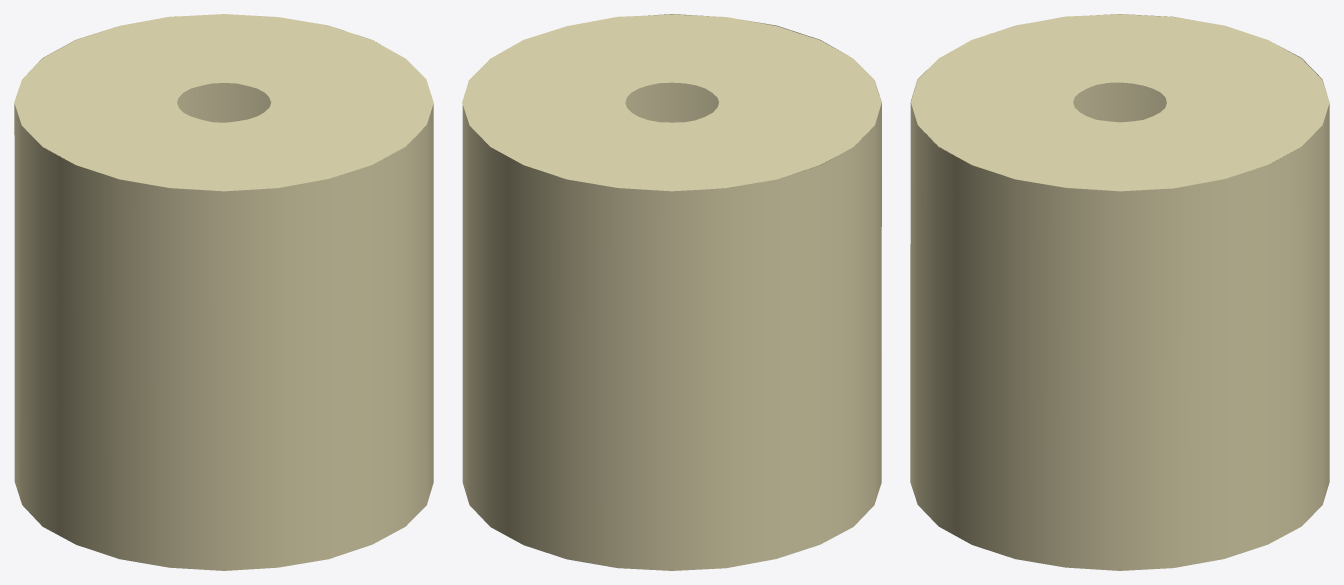
File: original_9.obj
3 renders of one model, left to right at view 1: azimuth 30°, elevation 25°; view 2: azimuth 150°, elevation 25°; view 3: azimuth 270°, elevation 25°, orthographic.
Visible parts, largest first — view 1: #ID68; view 2: #ID68; view 3: #ID68.
Boxes of the visible parts, x1,y1,x2,y2 form: #ID68: [14, 14, 433, 570]; #ID68: [462, 14, 881, 570]; #ID68: [910, 14, 1329, 570].
Bounding box in the file's own units: 0.1613 × 0.1615 × 0.1613.
